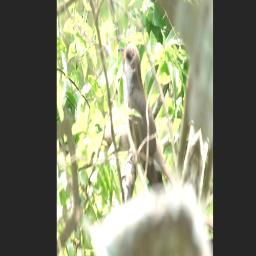Cuckoo: (104, 27, 189, 215)
